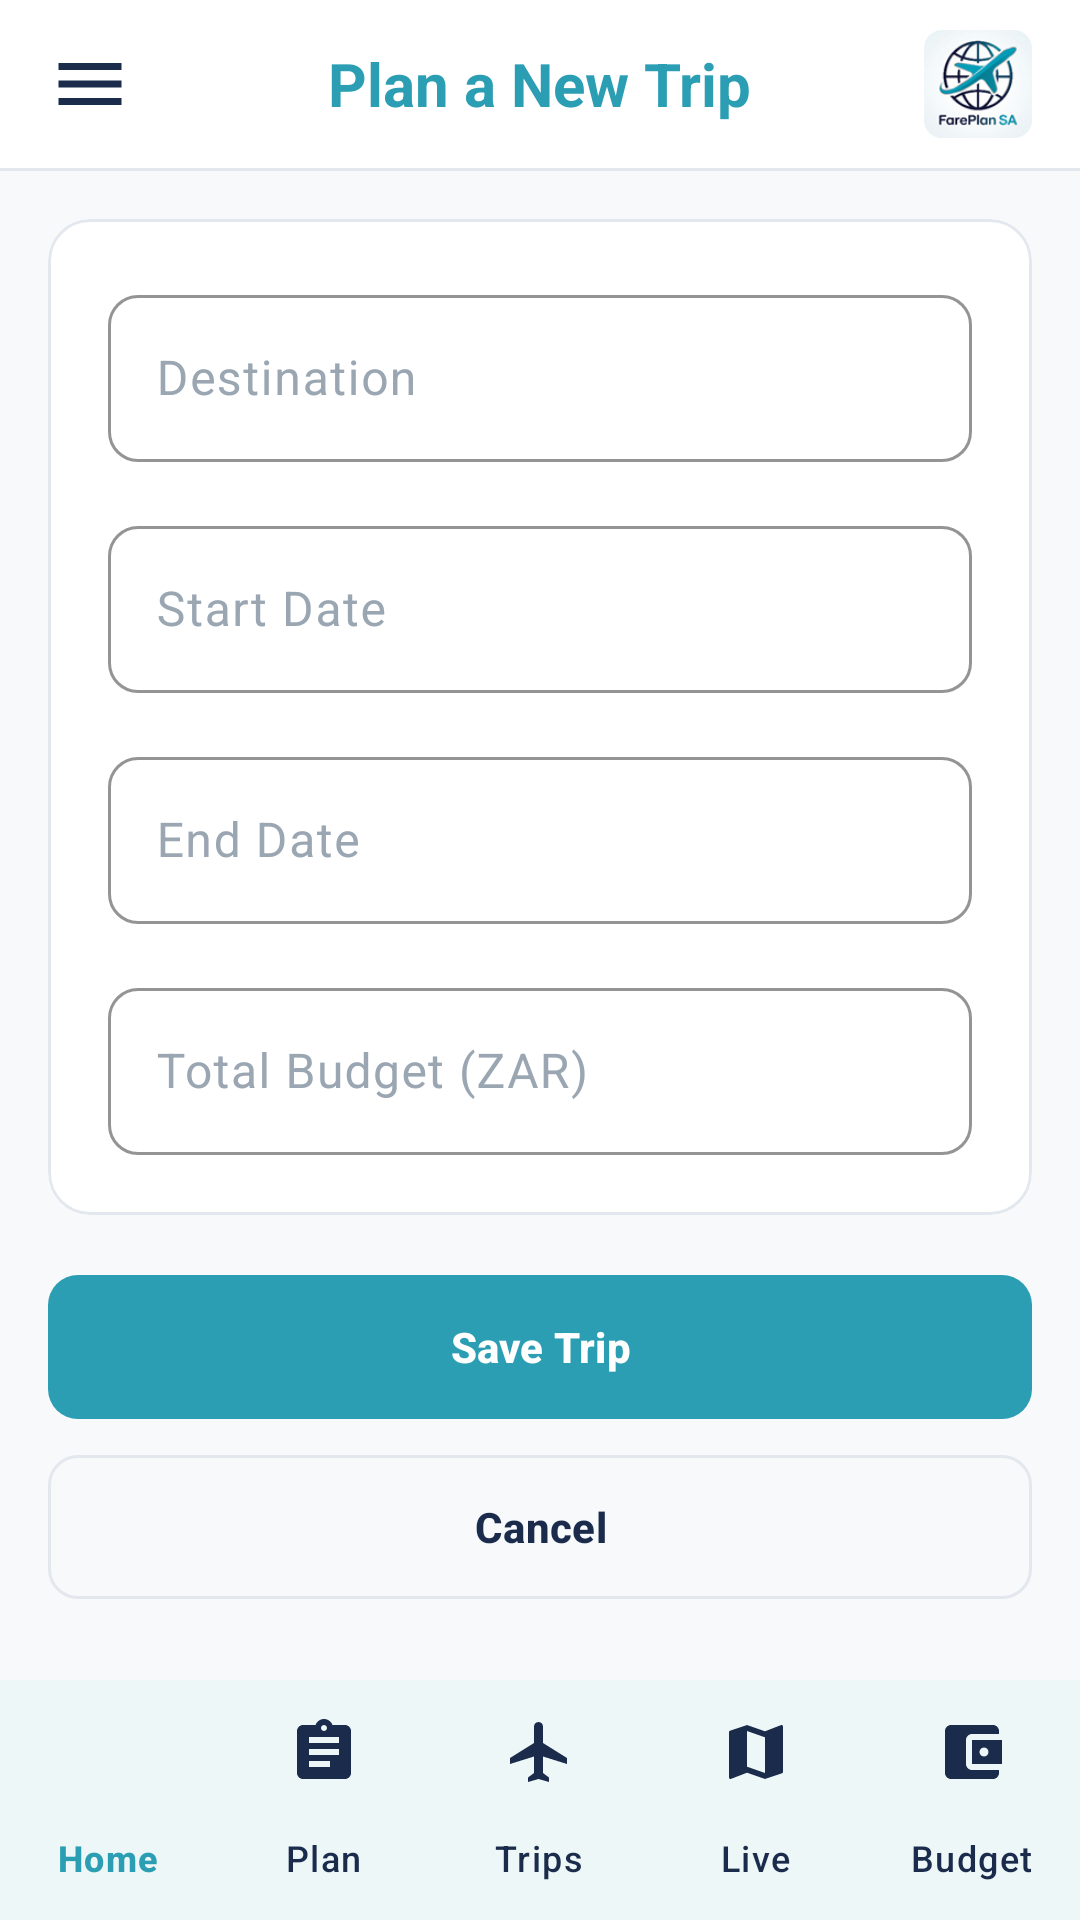

Named icons in this screenshot (1080x1920) and their centers, [x,y]:
Menu: [90,84]
